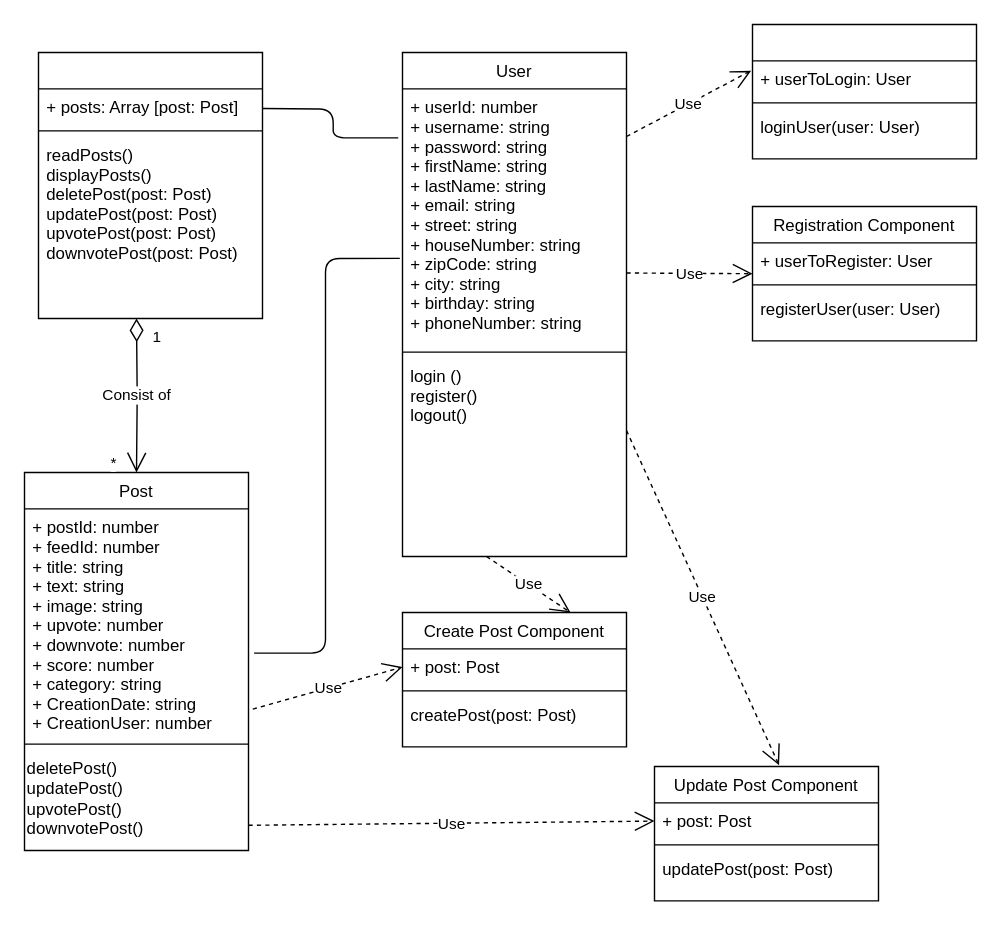
Some shapes in this 1001 by 930 pixel diagram are drawn without their labels. Here are the shapes that lost their labels. From the top down, the box of each, then its label:
(751, 23, 976, 159): Login Component
(37, 51, 262, 318): Feed
